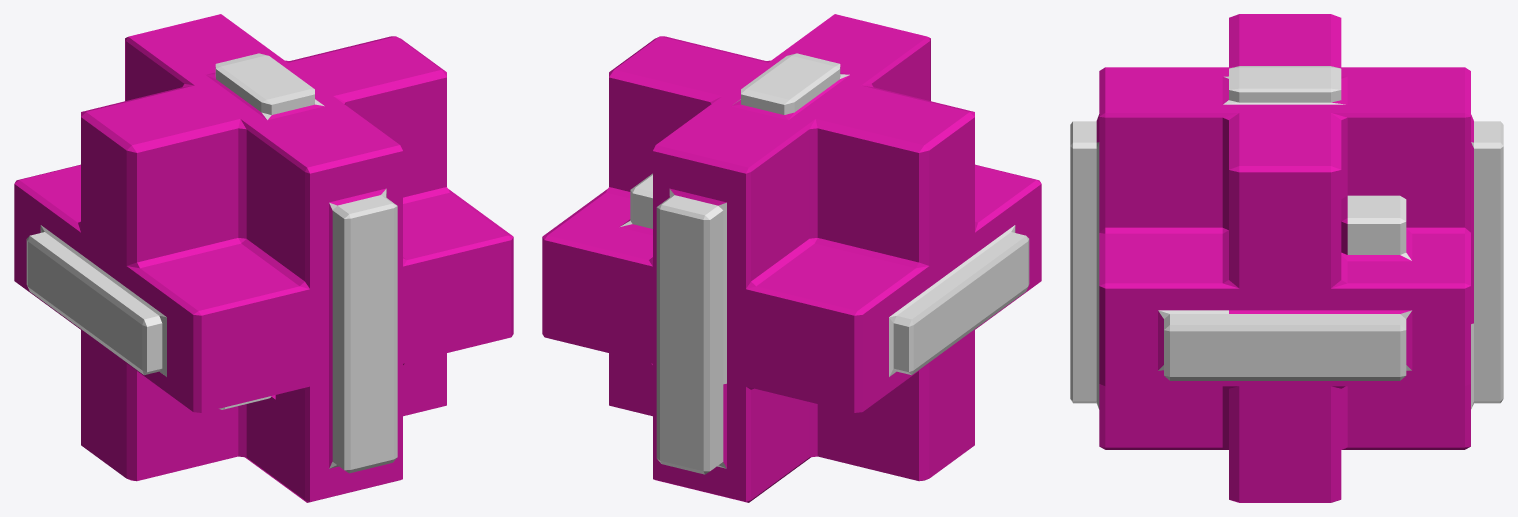
The model's file is DongCube.fbx.
3 renders of one model, left to right at view 1: azimuth 30°, elevation 25°; view 2: azimuth 150°, elevation 25°; view 3: azimuth 270°, elevation 25°, orthographic.
Parts seen in each view (by area): view 1: Cube; view 2: Cube; view 3: Cube.
Part boxes in pixels (x1,y1,x2,y2): Cube: (14,14,513,502); Cube: (542,14,1041,502); Cube: (1070,14,1503,502).
Bounding box in the file's own units: 229 × 214 × 233.
